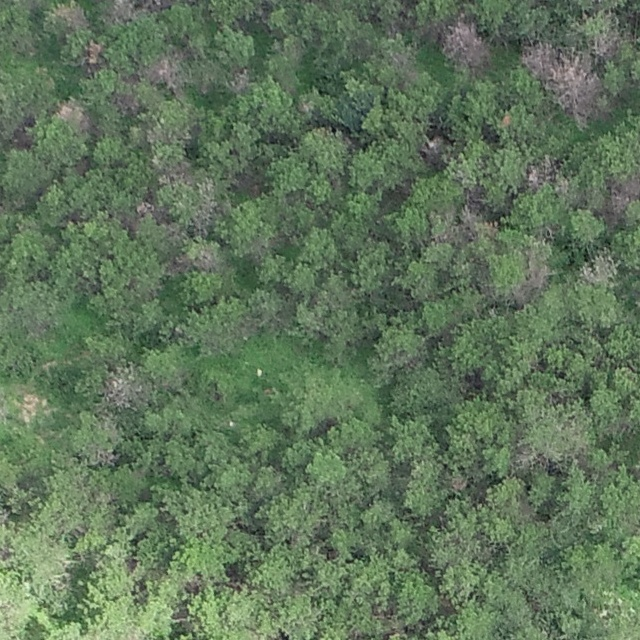unhealthy: (528, 43, 604, 127), (437, 16, 490, 72), (513, 257, 551, 306), (147, 47, 187, 93), (102, 366, 144, 409), (430, 207, 477, 244), (54, 98, 92, 133), (578, 252, 617, 284), (522, 156, 557, 191), (156, 157, 194, 187), (52, 1, 91, 30), (182, 244, 222, 272), (191, 195, 220, 232), (387, 46, 420, 77), (590, 28, 622, 59), (109, 90, 142, 116), (103, 0, 136, 24), (419, 134, 445, 162), (513, 445, 542, 470), (82, 39, 105, 69), (88, 445, 119, 467), (228, 66, 252, 94), (617, 174, 638, 198), (133, 200, 158, 220), (136, 0, 174, 11), (447, 474, 468, 493), (610, 193, 627, 213)
